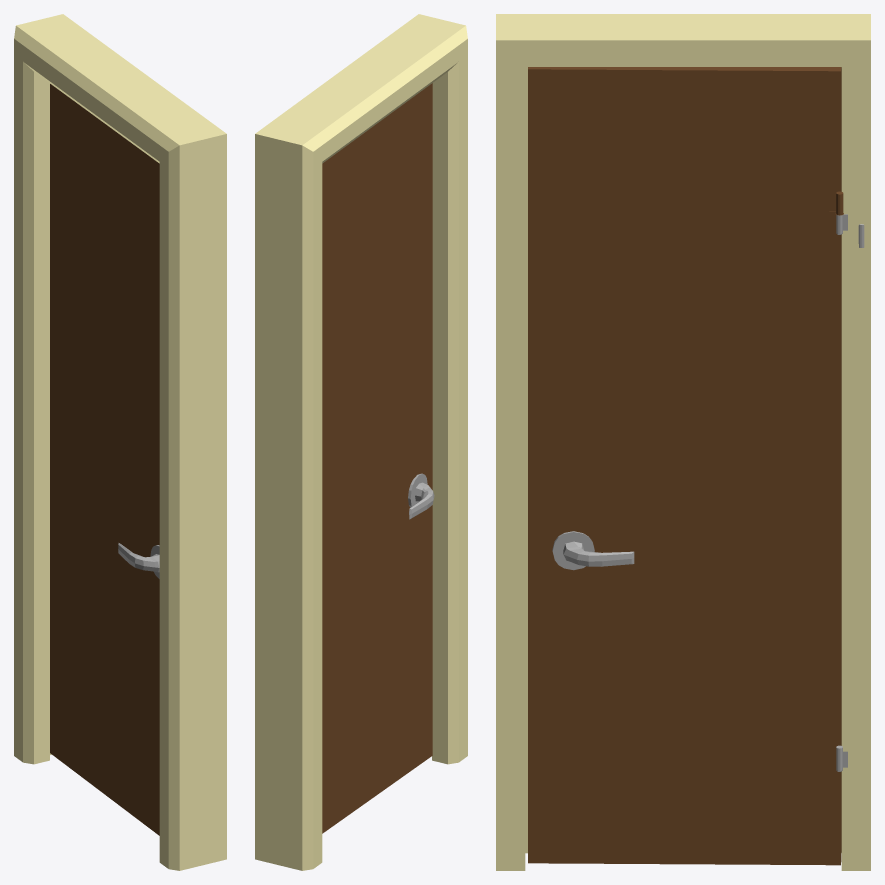
The model's file is doorClose.glb.
The picture shows the model from 3 angles, left to right: view 1: azimuth 30°, elevation 25°; view 2: azimuth 150°, elevation 25°; view 3: azimuth 270°, elevation 25°; orthographic projection. The views are drawn at different scales.
Visible parts, largest first — view 1: Door_Frame, Door, Handle; view 2: Door_Frame, Door, Handle; view 3: Door, Door_Frame, Handle.
Part boxes in pixels (x1,y1,x2,y2): Door_Frame: (14,14,226,870); Door: (50,84,159,835); Handle: (118,543,159,578); Door_Frame: (255,14,467,870); Door: (322,83,432,833); Handle: (408,473,434,519); Door: (528,67,864,865); Door_Frame: (496,14,870,870); Handle: (552,531,634,570).
Bounding box in the file's own units: 0.2167 × 2.17 × 0.8858.
